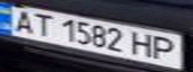1: (54, 16, 78, 43)
2: (106, 25, 127, 54)
5: (72, 19, 93, 46)
8: (90, 22, 109, 51)
A: (6, 7, 39, 34)
H: (127, 29, 160, 58)
P: (148, 34, 184, 62)
T: (27, 10, 57, 38)
